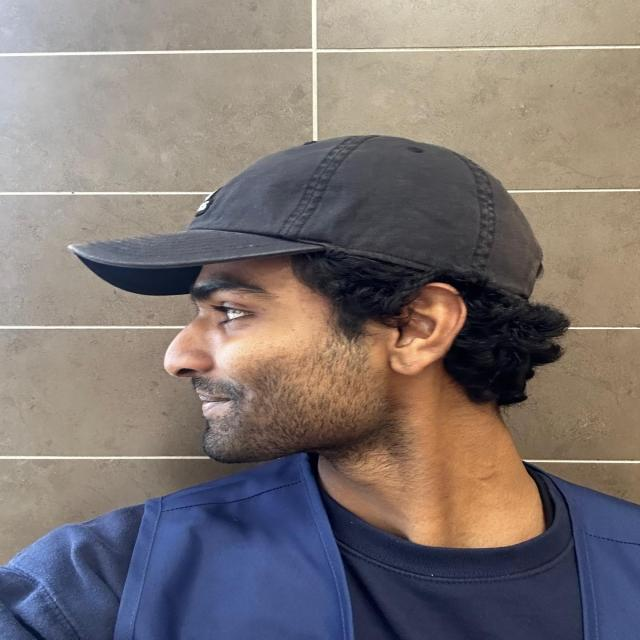cap: (39, 133, 585, 315)
